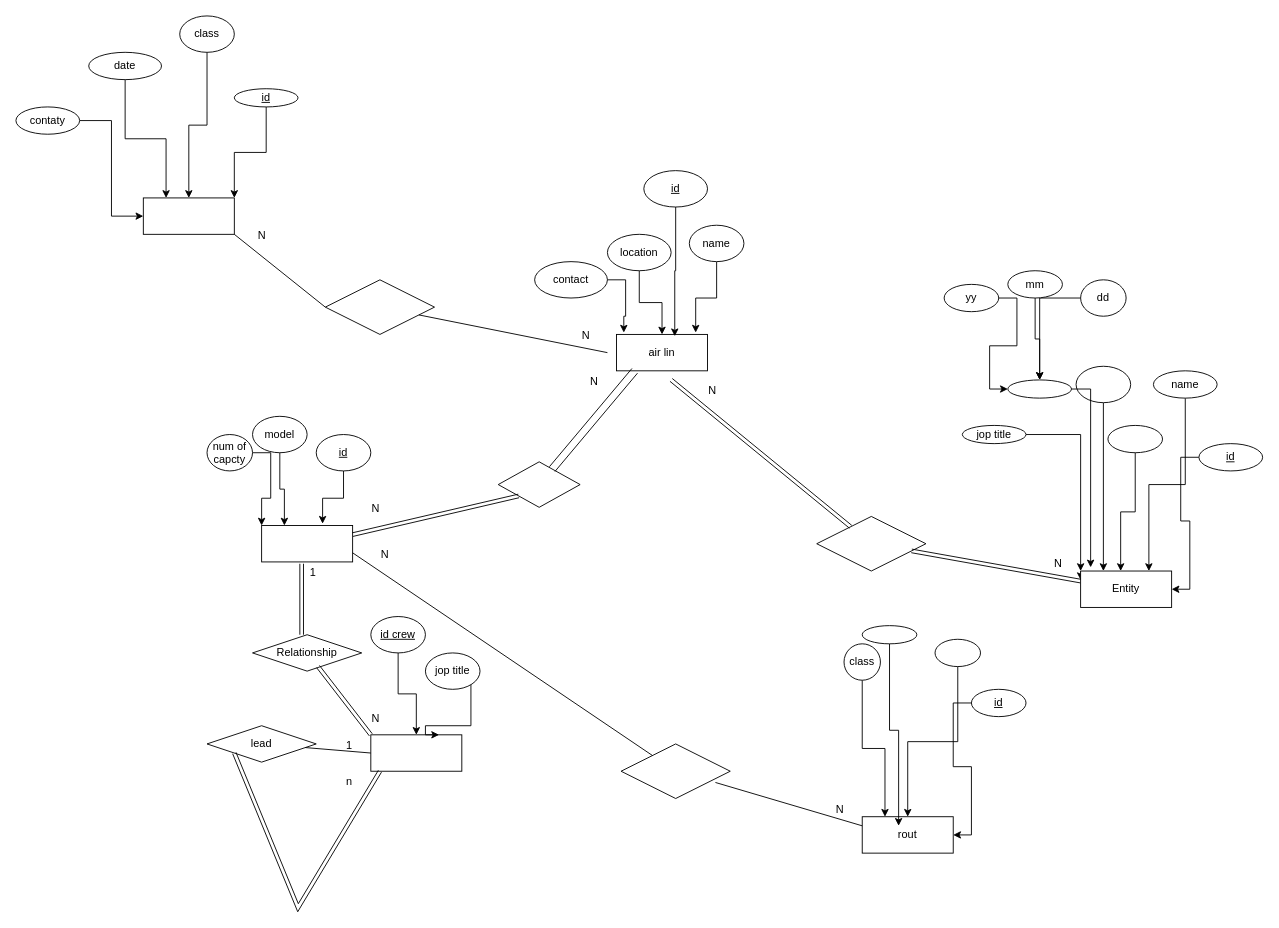
Image size: 1279x928. Some labels were removed from this diagram. Each missing label, with the centre of its shape:
"address" belongs at (1135,439).
"air craft" belongs at (307,543).
"Attribute" belongs at (1103,384).
"crew" belongs at (416,752).
"DOB" belongs at (1039,388).
"end" belongs at (889,634).
"fly" belongs at (675,771).
"own" belongs at (538,484).
"sel/buy transaction" belongs at (188,215).
"start" belongs at (957,652).
"transactions" belongs at (379,306).
"work" belongs at (871,543).
